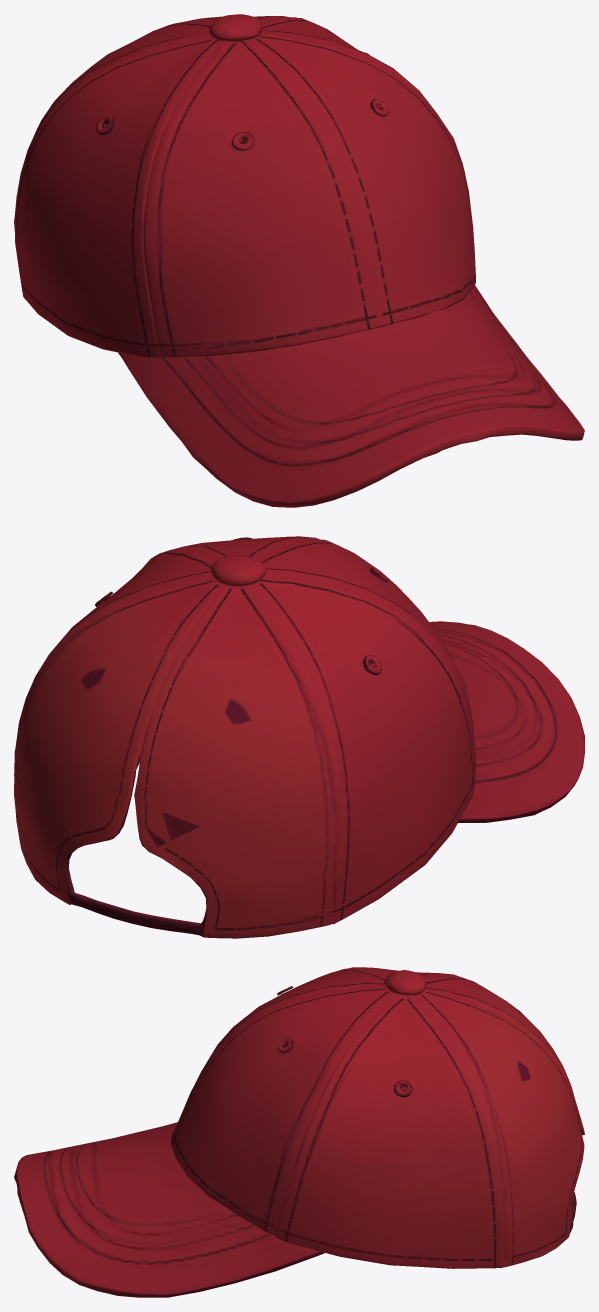
The model's file is bone.glb.
The picture shows the model from 3 angles, top to bottom: view 1: azimuth 30°, elevation 25°; view 2: azimuth 150°, elevation 25°; view 3: azimuth 270°, elevation 25°; orthographic projection. The views are drawn at different scales.
Size of the model in its own units: 0.5669 by 0.4741 by 0.9521.
Materials: 1 (1 with a texture image).
